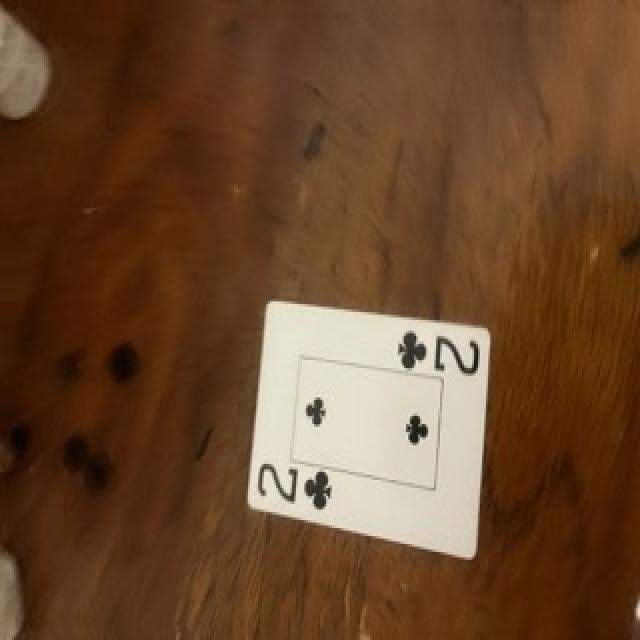2 of clubs: (251, 302, 490, 558)
